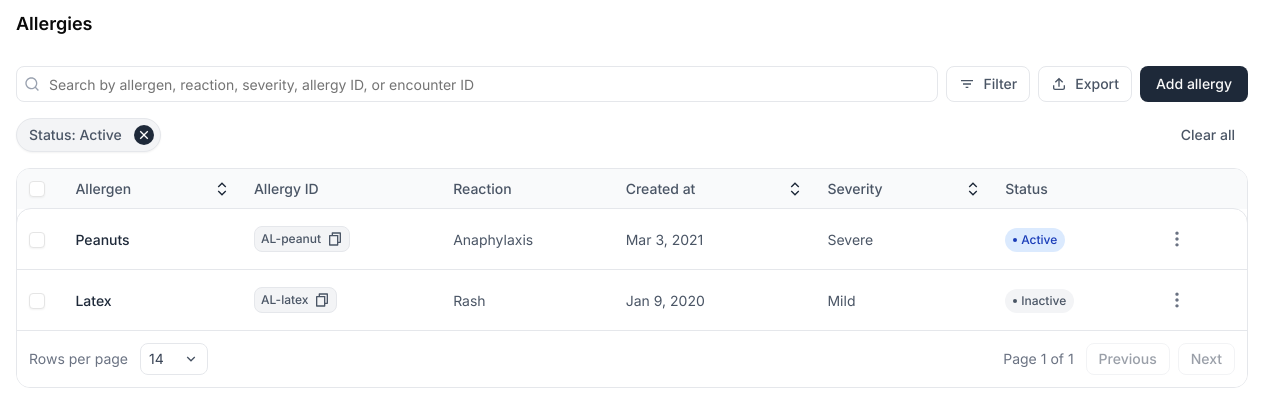
Test case: Allergies table › adds and removes status filters from the filter menu
Click the button "Filter". click: {"x": 988, "y": 84}
box: [946,66,1030,102]
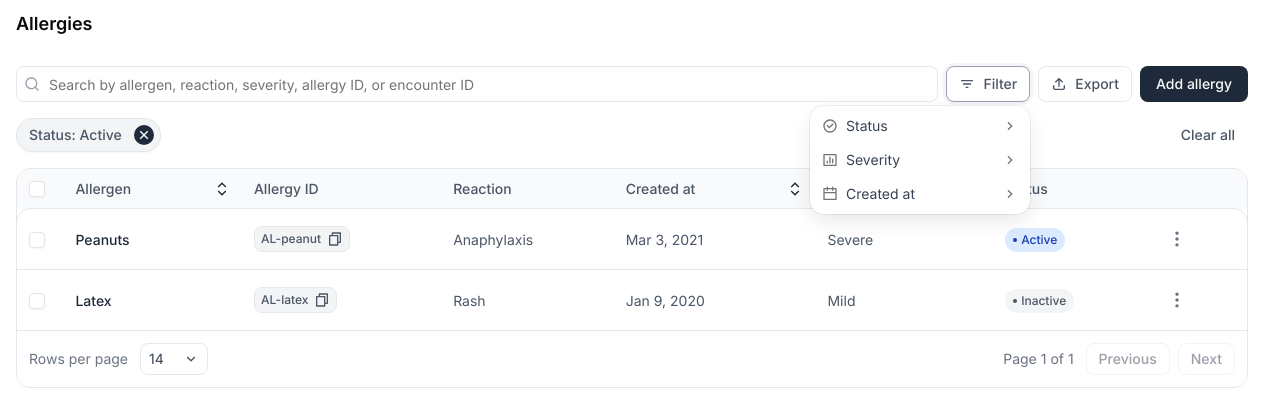
Click the menu item "Status". click: {"x": 867, "y": 126}
box: [822,117,1018,134]
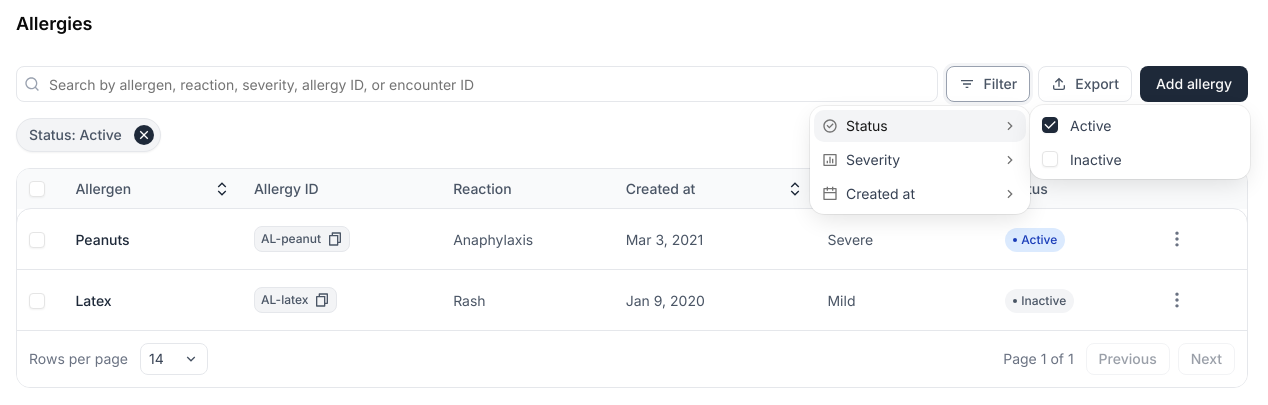
Now the 1st checkbox named "Active" is checked, box [1042,117,1058,133]
Now the 2nd checkbox named "Inactive" is not checked, box [1042,151,1058,167]
